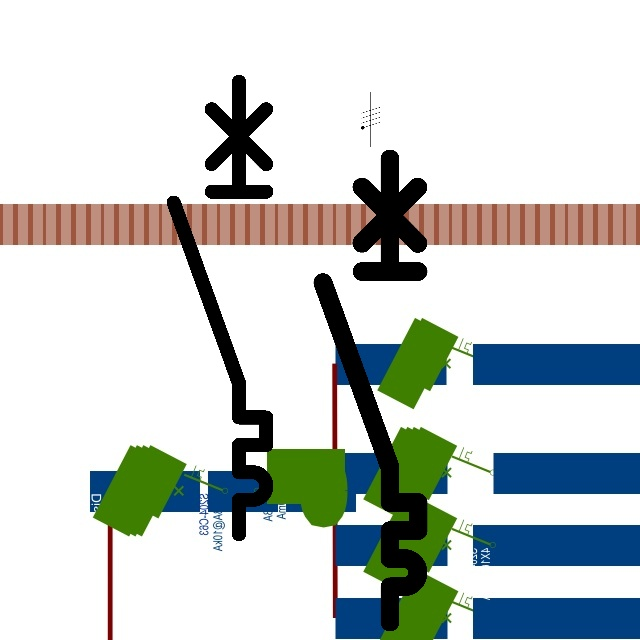interruptor_termomagnetico: (311, 147, 430, 634), (162, 70, 278, 546)
